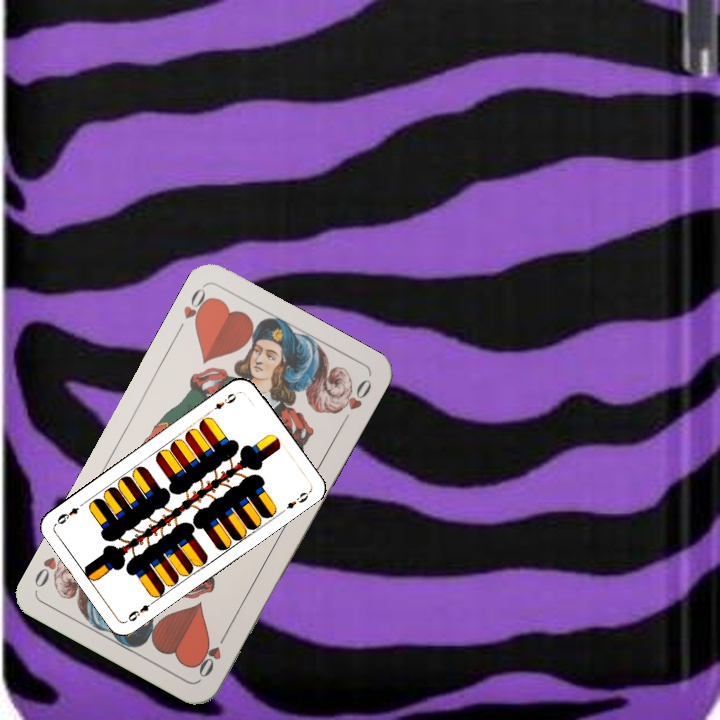E9: (123, 596, 158, 624), (210, 388, 241, 412)
HO: (172, 283, 215, 337), (193, 627, 230, 681)
